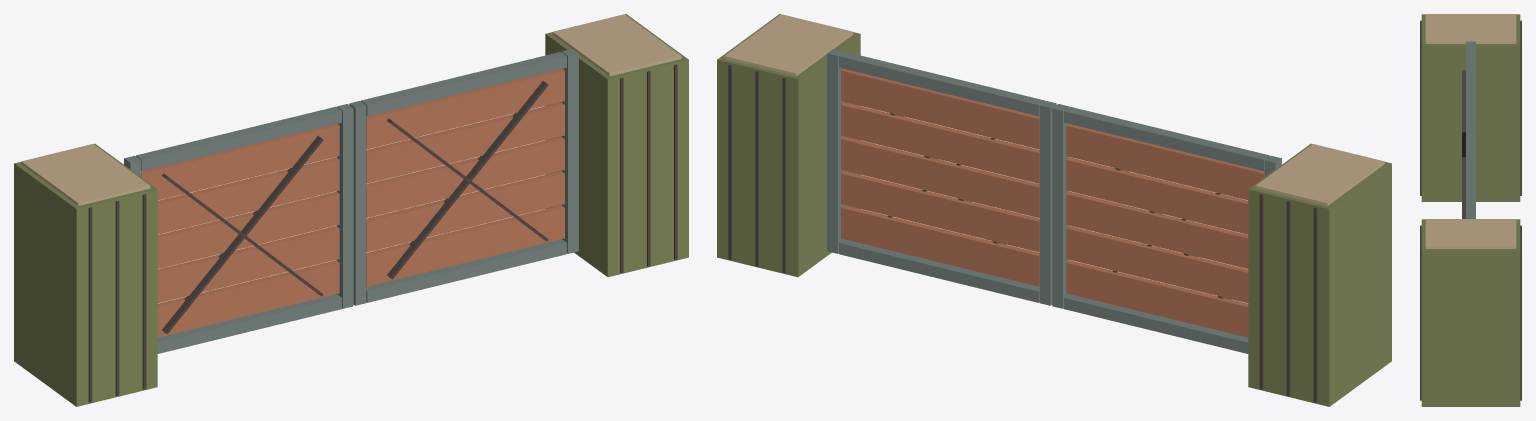
File: SM_PuertaVia_v2_Tablones_e0_Sano_LOD0.fbx
3 renders of one model, left to right at view 1: azimuth 30°, elevation 25°; view 2: azimuth 150°, elevation 25°; view 3: azimuth 270°, elevation 25°, orthographic. The views are drawn at different scales.
Visible parts, largest first — view 1: SM_bloques.puerta_via_v8_LOD0, Hoja_E, Hoja_O; view 2: SM_bloques.puerta_via_v8_LOD0, Hoja_E, Hoja_O; view 3: SM_bloques.puerta_via_v8_LOD0, Hoja_O, Hoja_E.
Part boxes in pixels (x1,y1,x2,y2): SM_bloques.puerta_via_v8_LOD0: (14,14,688,406); Hoja_E: (349,49,578,305); Hoja_O: (124,104,353,353); SM_bloques.puerta_via_v8_LOD0: (717,14,1391,406); Hoja_E: (827,49,1056,305); Hoja_O: (1052,104,1281,353); SM_bloques.puerta_via_v8_LOD0: (1420,14,1521,406); Hoja_O: (1462,41,1475,157); Hoja_E: (1462,128,1475,218).
Bounding box in the file's own units: 6.8 × 2.16 × 1.24.
